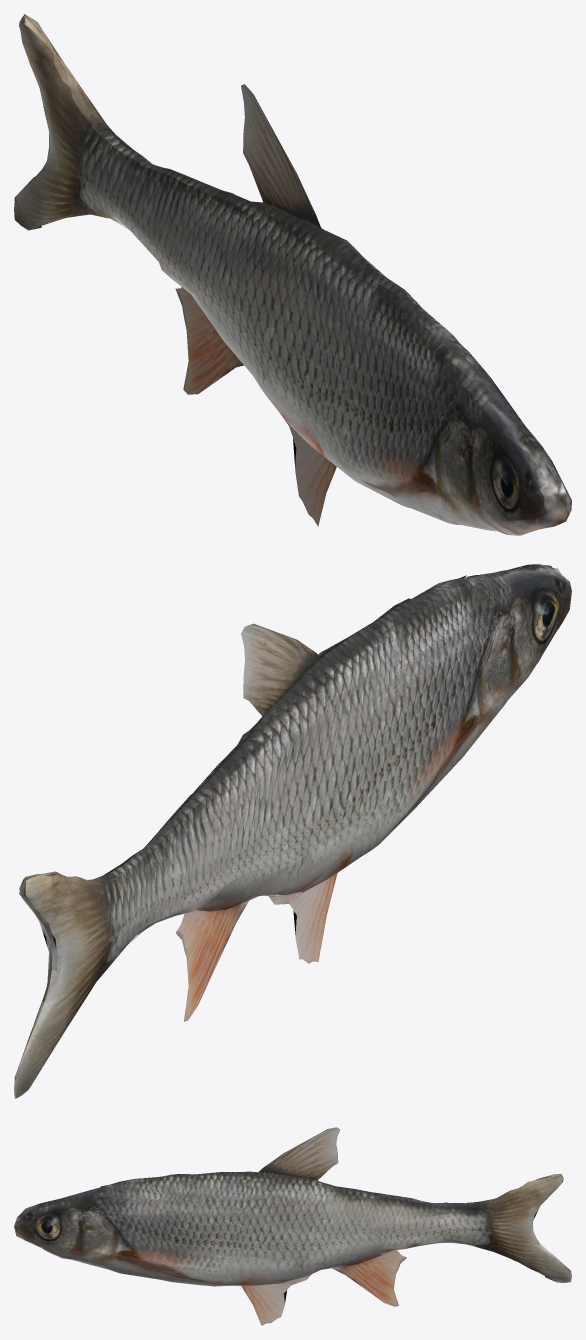
The model's file is ribka.glb.
3 views of the same model, one above another, from view 1: azimuth 30°, elevation 25°; view 2: azimuth 150°, elevation 25°; view 3: azimuth 270°, elevation 25° (orthographic). The views are drawn at different scales.
Parts seen in each view (by area): view 1: Fish_3; view 2: Fish_3; view 3: Fish_3.
Part boxes in pixels (bbox=[...]): Fish_3: bbox=[14, 14, 571, 535]; Fish_3: bbox=[14, 564, 571, 1098]; Fish_3: bbox=[14, 1127, 571, 1325].
Size of the model in its own units: 0.2044 by 1.81 by 4.6.
Materials: 1 (1 with a texture image).
